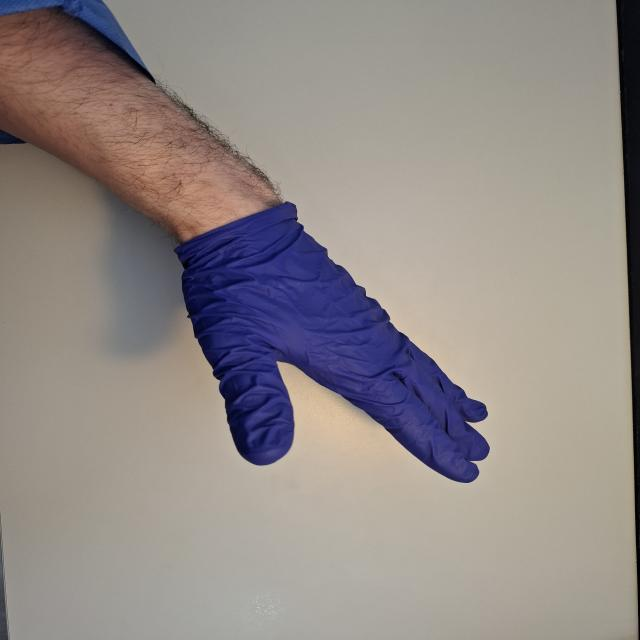glove_on: (169, 202, 497, 486)
